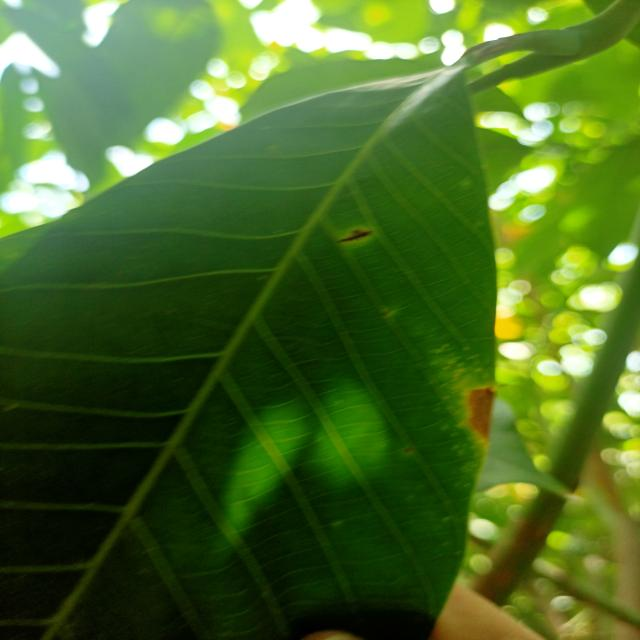Corynespora: (337, 229, 373, 243)
Leaf-Blight: (465, 385, 495, 442)
